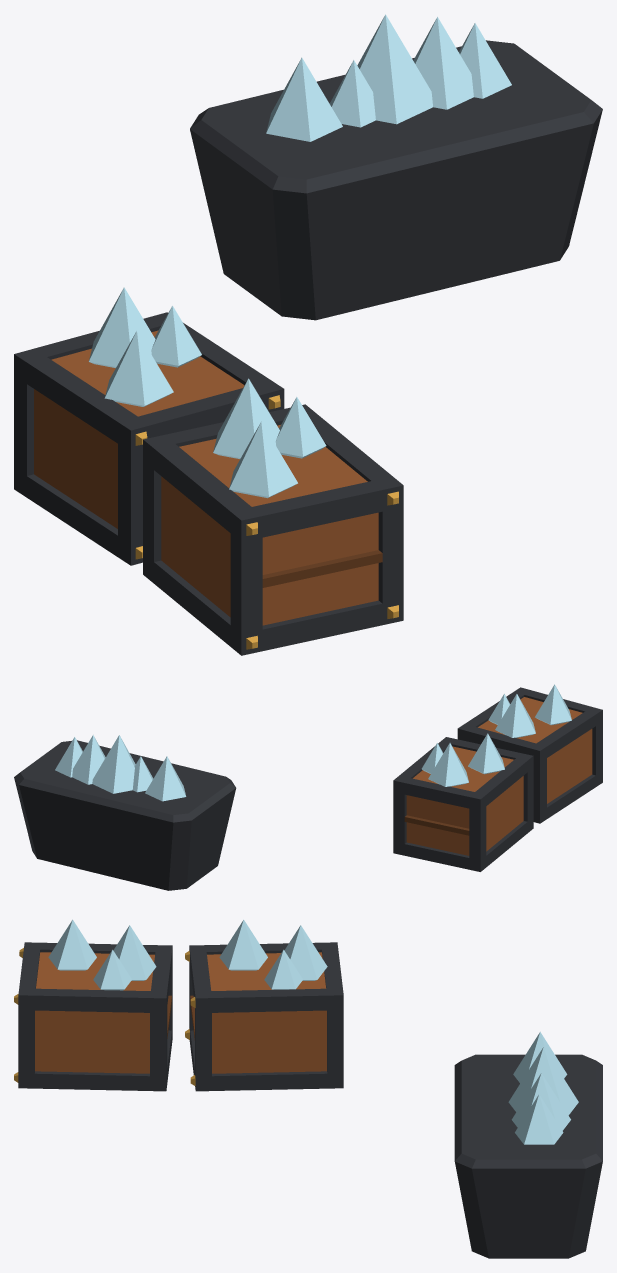
Rendered from HarpoonDressB2.obj.
3 views of the same model, one above another, from view 1: azimuth 30°, elevation 25°; view 2: azimuth 150°, elevation 25°; view 3: azimuth 270°, elevation 25° (orthographic). The views are drawn at different scales.
Visible parts, largest first — view 1: HarpoonDressB2; view 2: HarpoonDressB2; view 3: HarpoonDressB2.
Part boxes in pixels (x1,y1,x2,y2): HarpoonDressB2: [14, 14, 602, 655]; HarpoonDressB2: [14, 684, 602, 890]; HarpoonDressB2: [14, 919, 602, 1258].
Size of the model in its own units: 0.9564 by 0.317 by 1.03.
